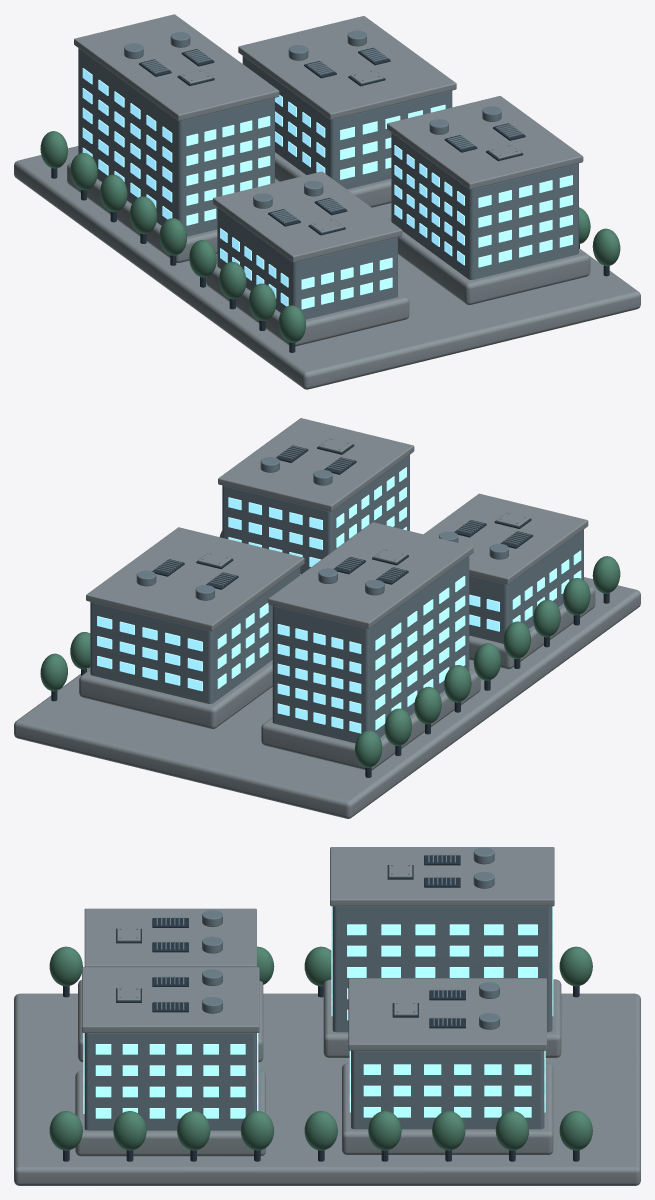
Rendered from CityDistrict.fbx.
3 views of the same model, one above another, from view 1: azimuth 30°, elevation 25°; view 2: azimuth 150°, elevation 25°; view 3: azimuth 270°, elevation 25° (orthographic). The views are drawn at different scales.
Visible parts, largest first — view 1: District foundation, Architectural tower.002, Architectural tower.001, Parapet coping.003, Parapet coping.002, Parapet coping.001, Parapet coping, Architectural tower, Architectural tower.003, Building podium.001, Building podium, Building podium.002 (+11 smaller); view 2: District foundation, Architectural tower.002, Parapet coping.003, Architectural tower.003, Parapet coping.002, Parapet coping.001, Architectural tower.001, Parapet coping, Building podium.003, Architectural tower, Building podium.002, Building podium (+11 smaller); view 3: District foundation, Architectural tower.002, Parapet coping.003, Architectural tower.001, Parapet coping.002, Architectural tower.003, Parapet coping.001, Parapet coping, Building podium.003, Building podium.001, Building podium.002, Street tree canopy.009 (+13 smaller).
Boxes of the visible parts, left/top/right/bottom form: District foundation: left=14, top=146, right=640, bottom=389; Architectural tower.002: left=78, top=48, right=274, bottom=236; Architectural tower.001: left=391, top=132, right=578, bottom=279; Parapet coping.003: left=238, top=16, right=456, bottom=119; Parapet coping.002: left=74, top=14, right=279, bottom=120; Parapet coping.001: left=387, top=96, right=583, bottom=189; Parapet coping: left=213, top=171, right=402, bottom=262; Architectural tower: left=217, top=207, right=397, bottom=319; Architectural tower.003: left=242, top=56, right=452, bottom=189; Building podium.001: left=388, top=219, right=590, bottom=304; Building podium: left=206, top=263, right=409, bottom=346; Building podium.002: left=67, top=162, right=217, bottom=262; District foundation: left=14, top=577, right=640, bottom=818; Architectural tower.002: left=272, top=556, right=469, bottom=743; Parapet coping.003: left=86, top=527, right=304, bottom=631; Architectural tower.003: left=90, top=567, right=300, bottom=703; Parapet coping.002: left=268, top=522, right=473, bottom=628; Parapet coping.001: left=218, top=418, right=414, bottom=511; Architectural tower.001: left=222, top=455, right=409, bottom=574; Parapet coping: left=424, top=493, right=588, bottom=584; Building podium.003: left=79, top=660, right=272, bottom=728; Architectural tower: left=469, top=529, right=583, bottom=643; Building podium.002: left=261, top=669, right=480, bottom=770; Building podium: left=469, top=586, right=595, bottom=669; District foundation: left=14, top=993, right=640, bottom=1185; Architectural tower.002: left=332, top=906, right=552, bottom=1032; Parapet coping.003: left=348, top=978, right=546, bottom=1050; Architectural tower.001: left=84, top=1033, right=256, bottom=1130; Parapet coping.002: left=330, top=847, right=554, bottom=906; Architectural tower.003: left=351, top=1050, right=544, bottom=1129; Parapet coping.001: left=82, top=967, right=259, bottom=1032; Parapet coping: left=84, top=908, right=256, bottom=966; Building podium.003: left=342, top=1063, right=553, bottom=1154; Building podium.001: left=75, top=1071, right=265, bottom=1156; Building podium.002: left=323, top=979, right=561, bottom=1057; Street tree canopy.009: left=304, top=1111, right=337, bottom=1150.
Bounding box in the file's own units: 800 × 390 × 1200.
